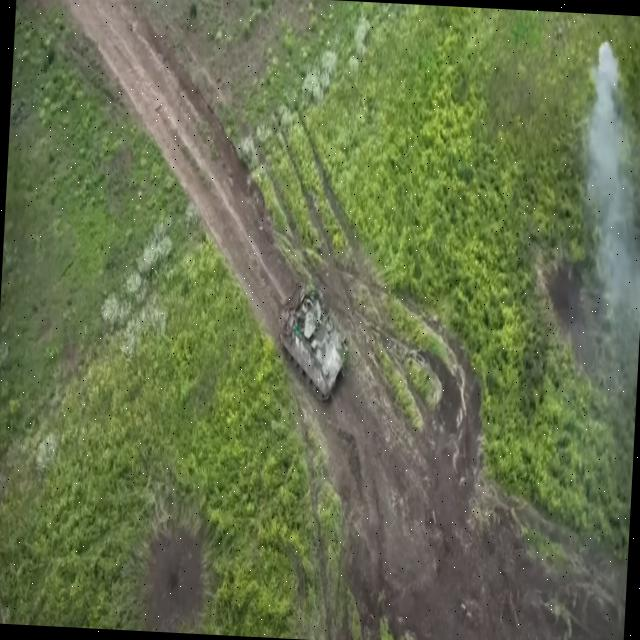AIFV: (277, 277, 356, 412)
